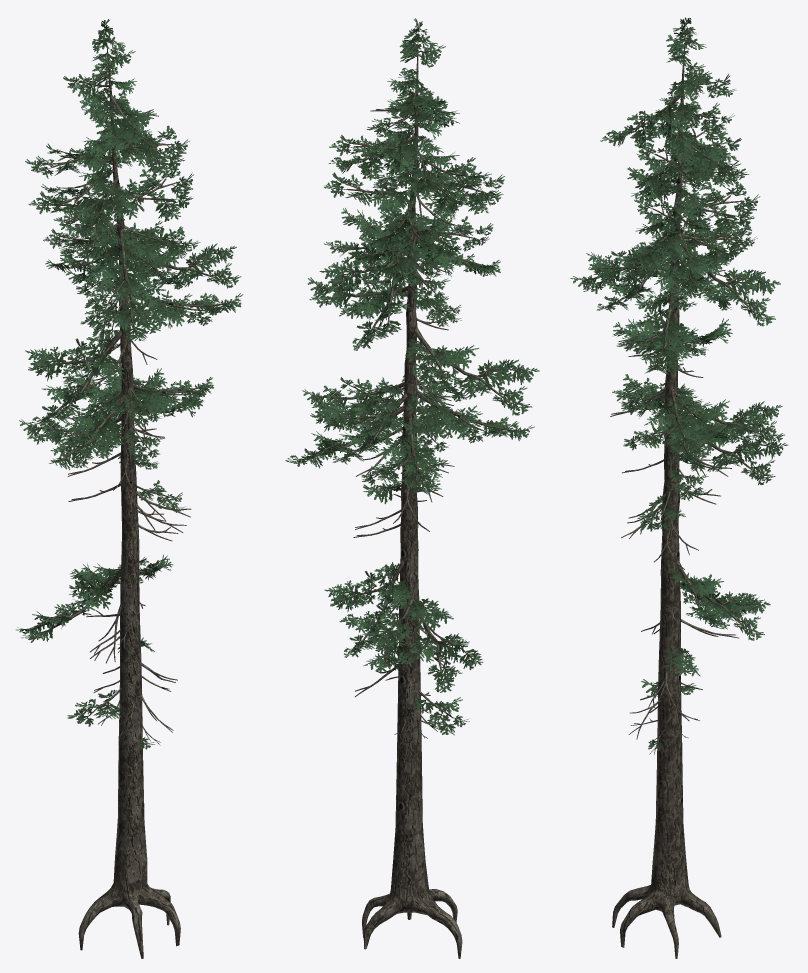
Rendered from Tree2-5-HalfLeaves.fbx.
3 views of the same model, side by side, from view 1: azimuth 30°, elevation 25°; view 2: azimuth 150°, elevation 25°; view 3: azimuth 270°, elevation 25° (orthographic). The views are drawn at different scales.
Visible parts, largest first — view 1: Tree2-5-HalfLeaves_LOD0; view 2: Tree2-5-HalfLeaves_LOD0; view 3: Tree2-5-HalfLeaves_LOD0.
Part boxes in pixels (<box>): Tree2-5-HalfLeaves_LOD0: <box>16,19,243,958</box>; Tree2-5-HalfLeaves_LOD0: <box>285,18,539,958</box>; Tree2-5-HalfLeaves_LOD0: <box>570,17,787,958</box>.
Size of what is drawn, in the model's own units: 5.17 by 4.62 by 20.85.
